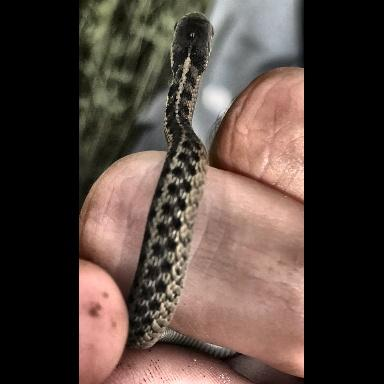snake: (127, 13, 215, 351)
